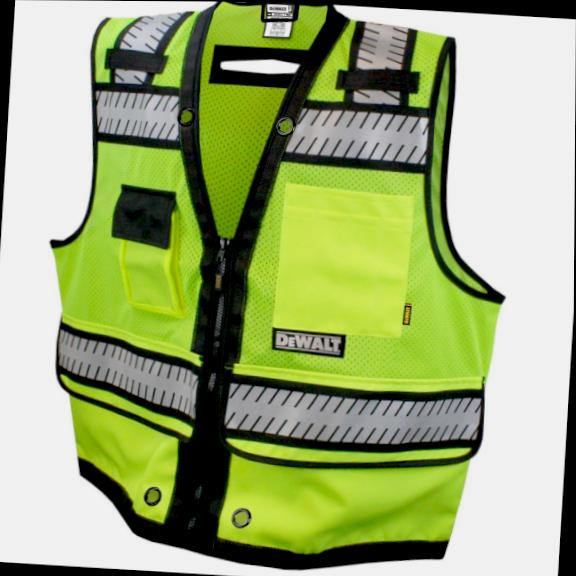safety_vest: (27, 0, 524, 576)
